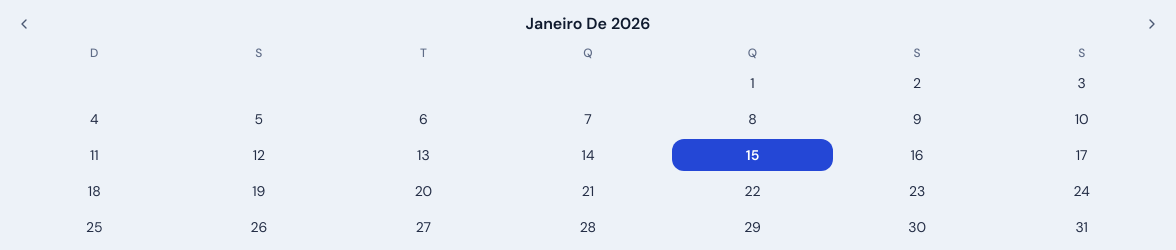
Scenario: MonthCalendar › goes back across the year boundary
Click the button named "Mês anterior".
click(24, 24)  # box [12,12,36,36]
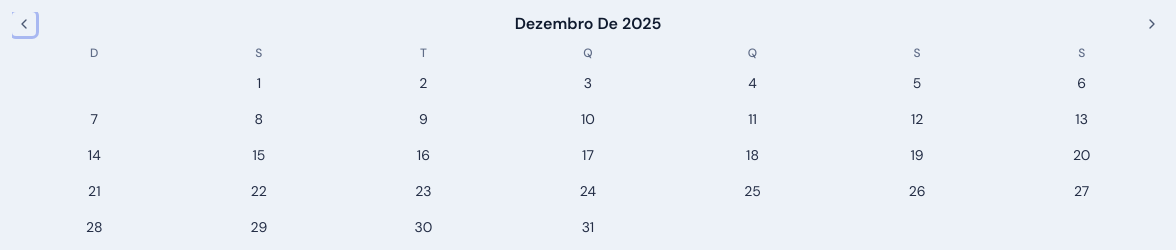
Check: the text "dezembro de 2025" is shown, box [515,12,661,36]
